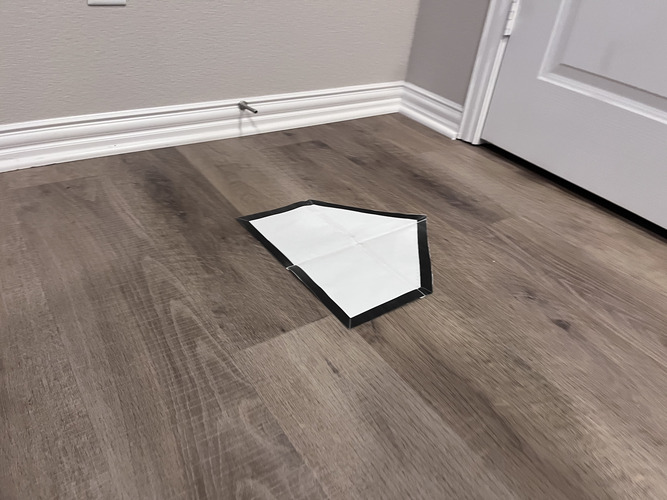homeplate: (234, 198, 434, 328)
